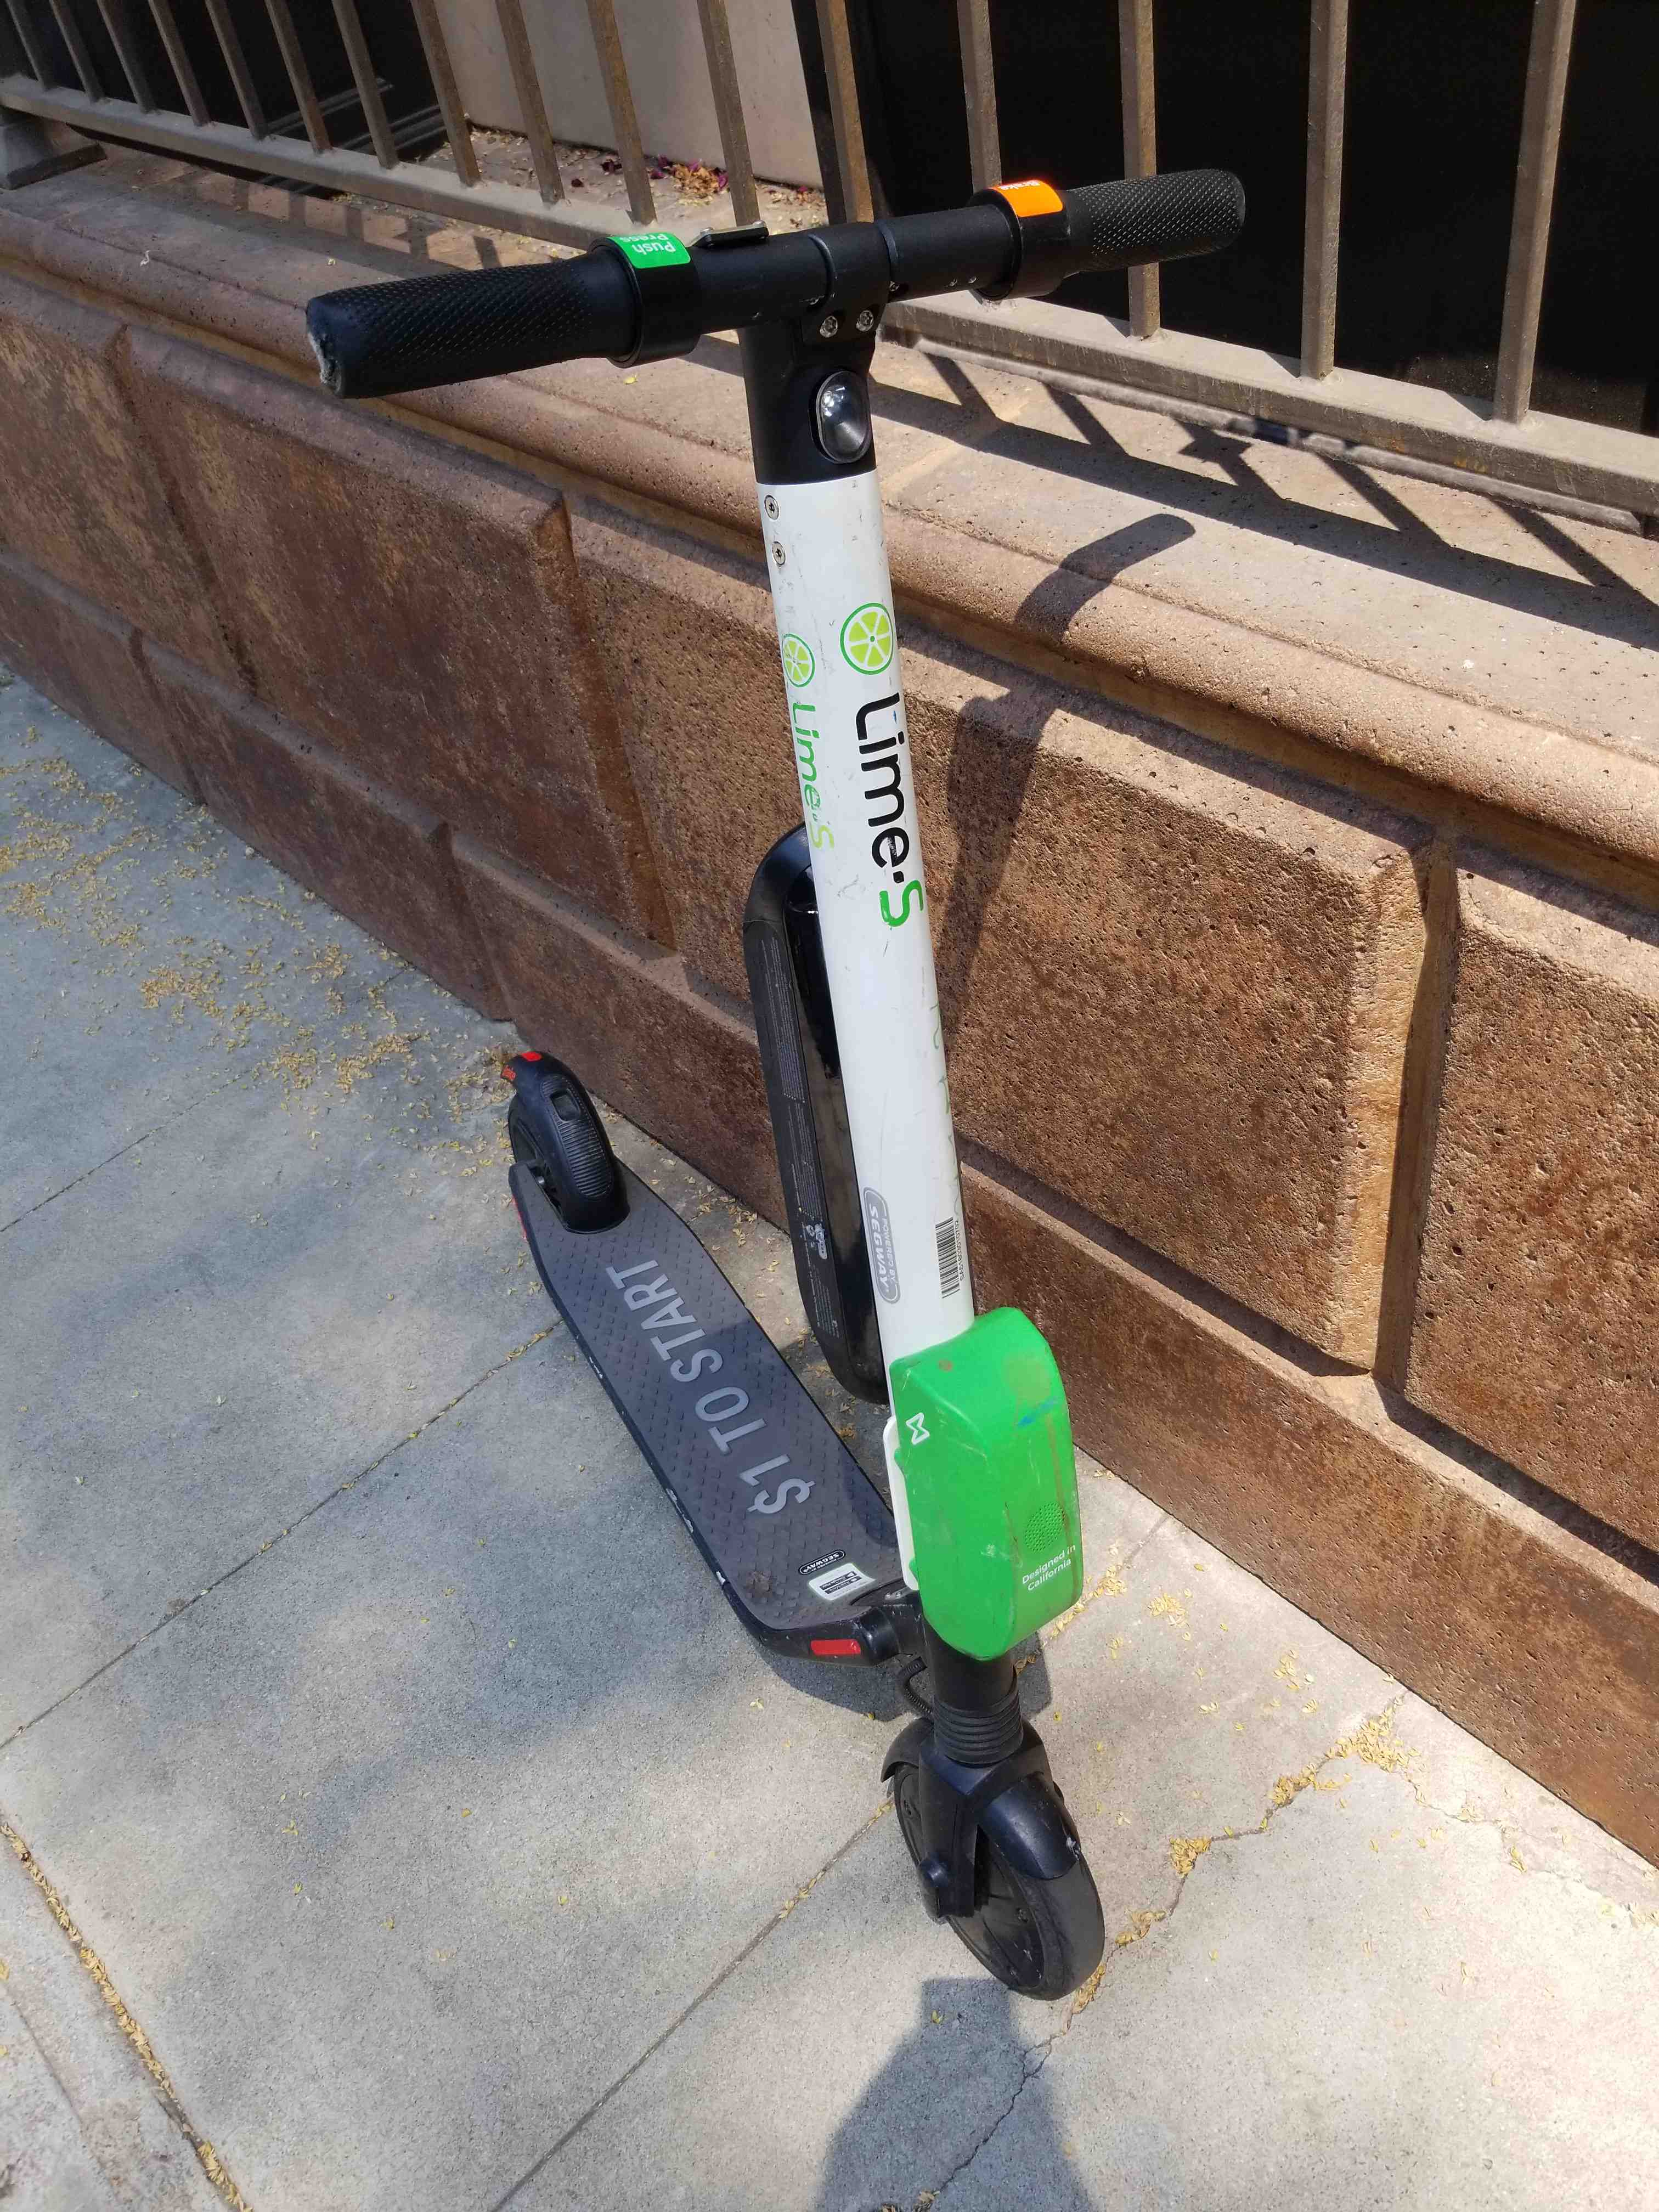scooter: (296, 115, 1246, 2050)
